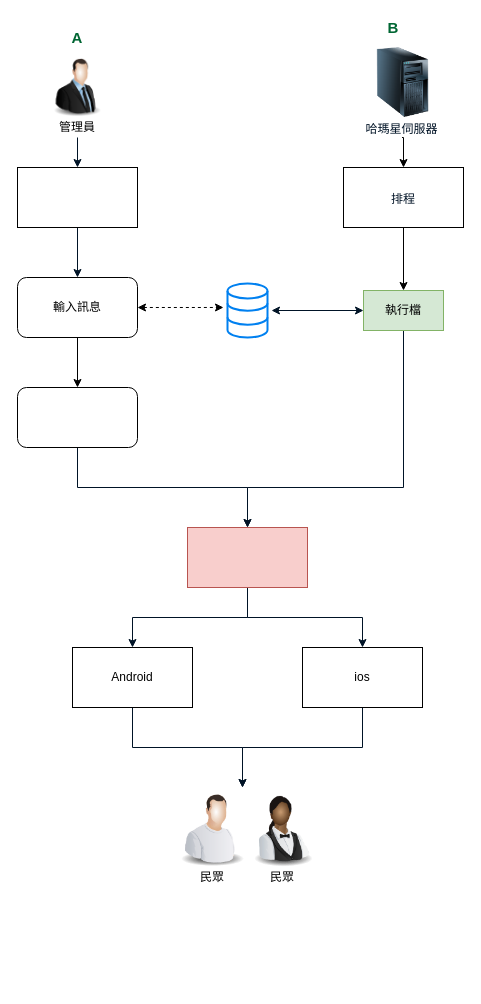
Some shapes in this 481 by 1004 pixel diagram are drawn without their labels. The shapes that lost their labels are listed below. From the top down, each one's centre as x and y in pixels, then its label:
the point at 77,197: 登入OSIS後台
the point at 77,417: 勾選用戶
the point at 247,557: 推播模組
